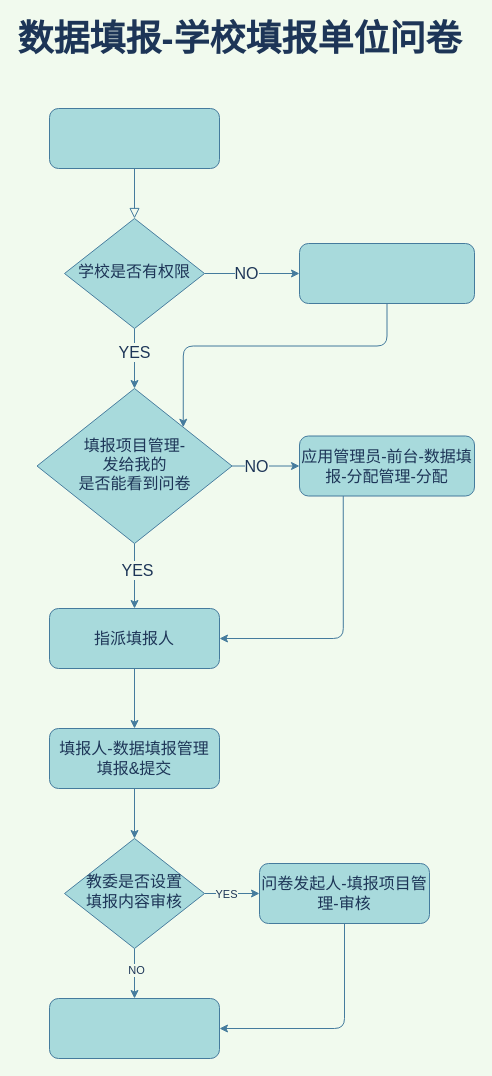
Image size: 492x1076. Some labels were removed from this diagram. The shapes that lost their labels are listed below. From the top down, each one's centre as x and y in pixels, then its label:
(x=134, y=138): 单位问卷发布完成
(x=386, y=273): 学校单位管理员-后台-应用管理-权限设置-授权
(x=134, y=1028): 完成
